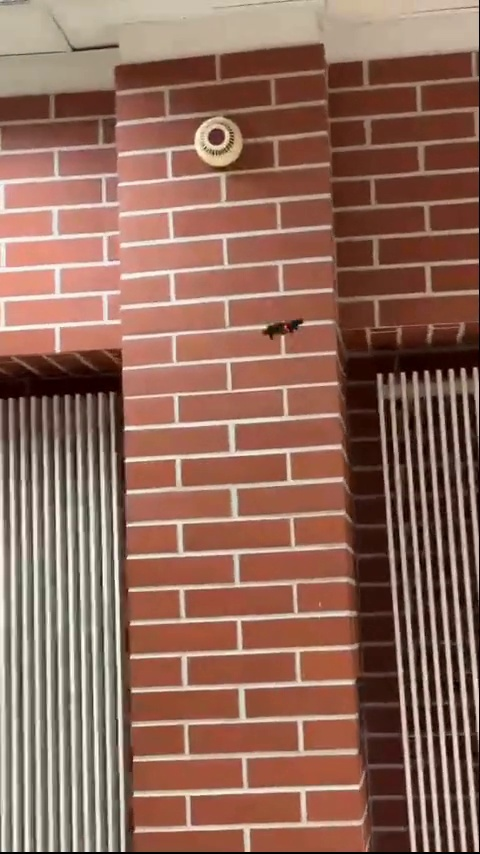drone: (264, 317, 305, 336)
